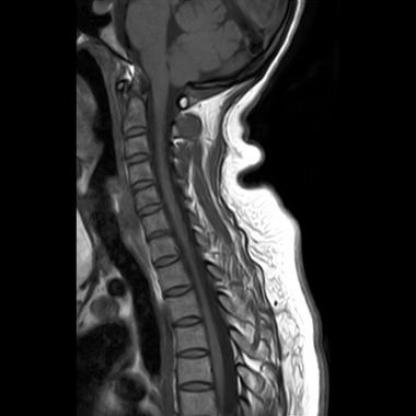Degenerative Disc Diseaserotation: (145, 228, 174, 241)
